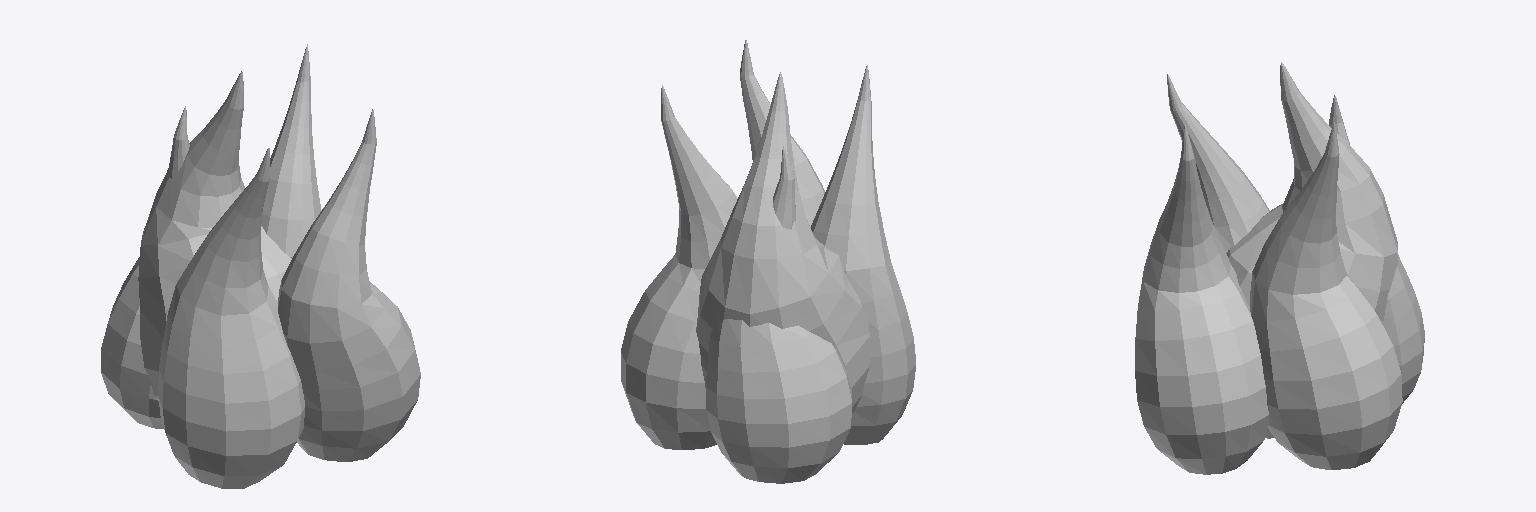
Rendered from fire_000018.obj.
The picture shows the model from 3 angles: view 1: azimuth 30°, elevation 25°; view 2: azimuth 150°, elevation 25°; view 3: azimuth 270°, elevation 25°; orthographic projection.
Parts seen in each view (by area): view 1: flame_NurbsPath.015; view 2: flame_NurbsPath.015; view 3: flame_NurbsPath.015.
Part boxes in pixels (bbox=[...]): flame_NurbsPath.015: bbox=[101, 44, 420, 488]; flame_NurbsPath.015: bbox=[621, 40, 915, 483]; flame_NurbsPath.015: bbox=[1135, 62, 1424, 474].
Size of the model in its own units: 0.7535 by 1.16 by 0.8113.